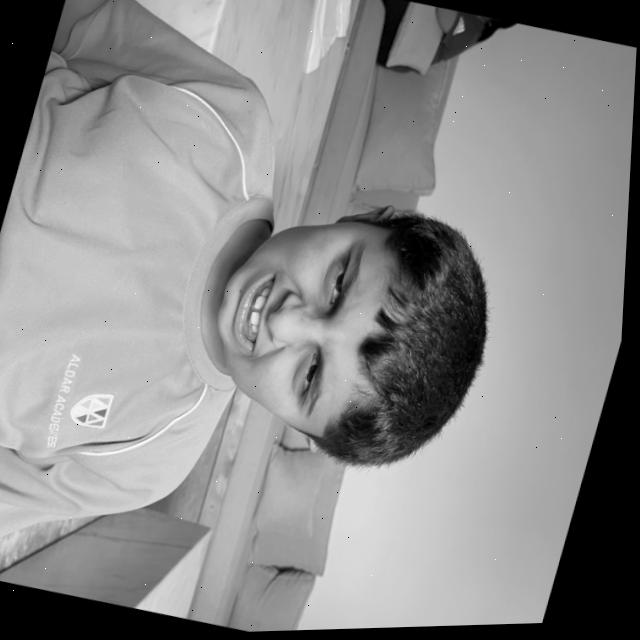angry: (200, 211, 415, 430)
